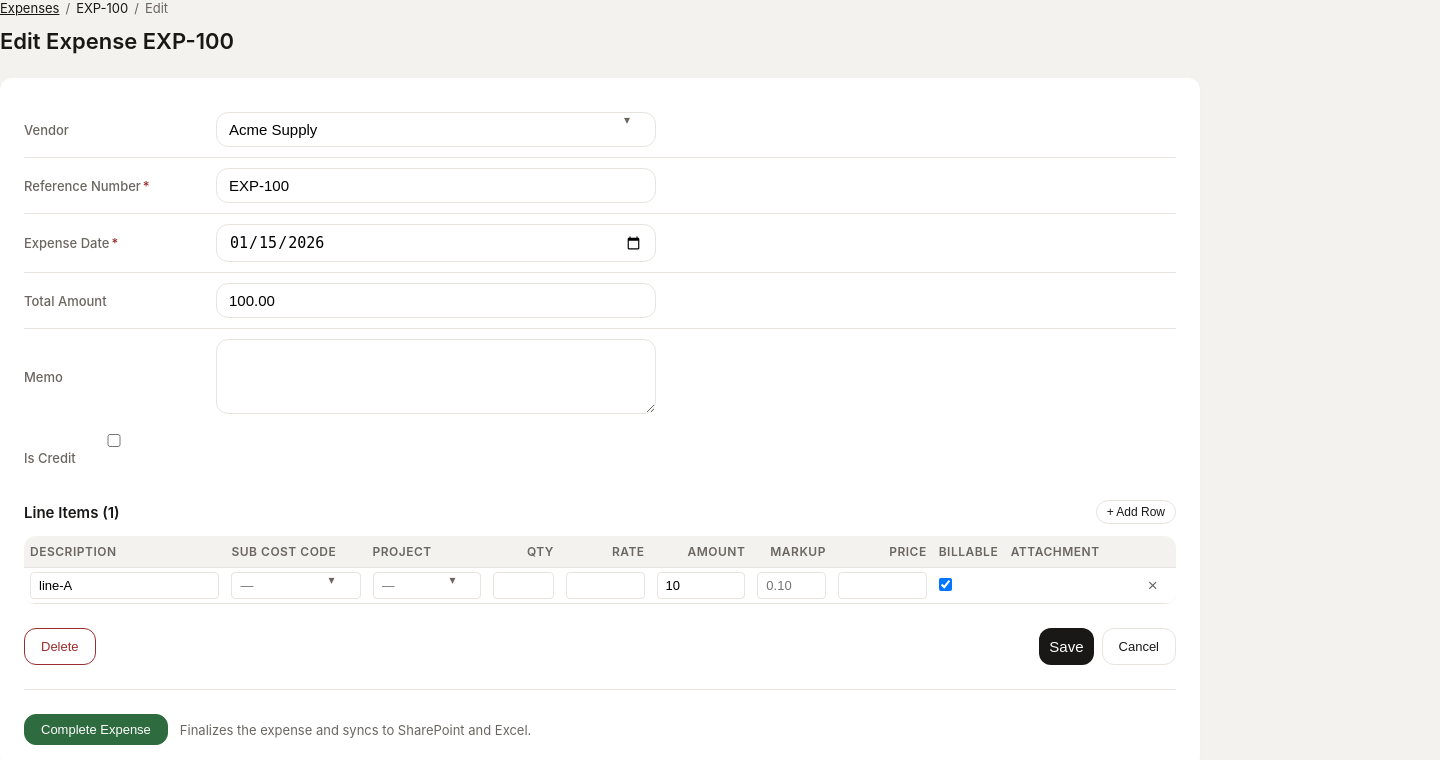
Test: ExpenseEdit receipt re-homing on line delete (U-171 / U-476) › aborts the save and issues NO delete when no surviving line exists
Click the button titled "Remove": [1153, 586] box [1142,575,1164,596]
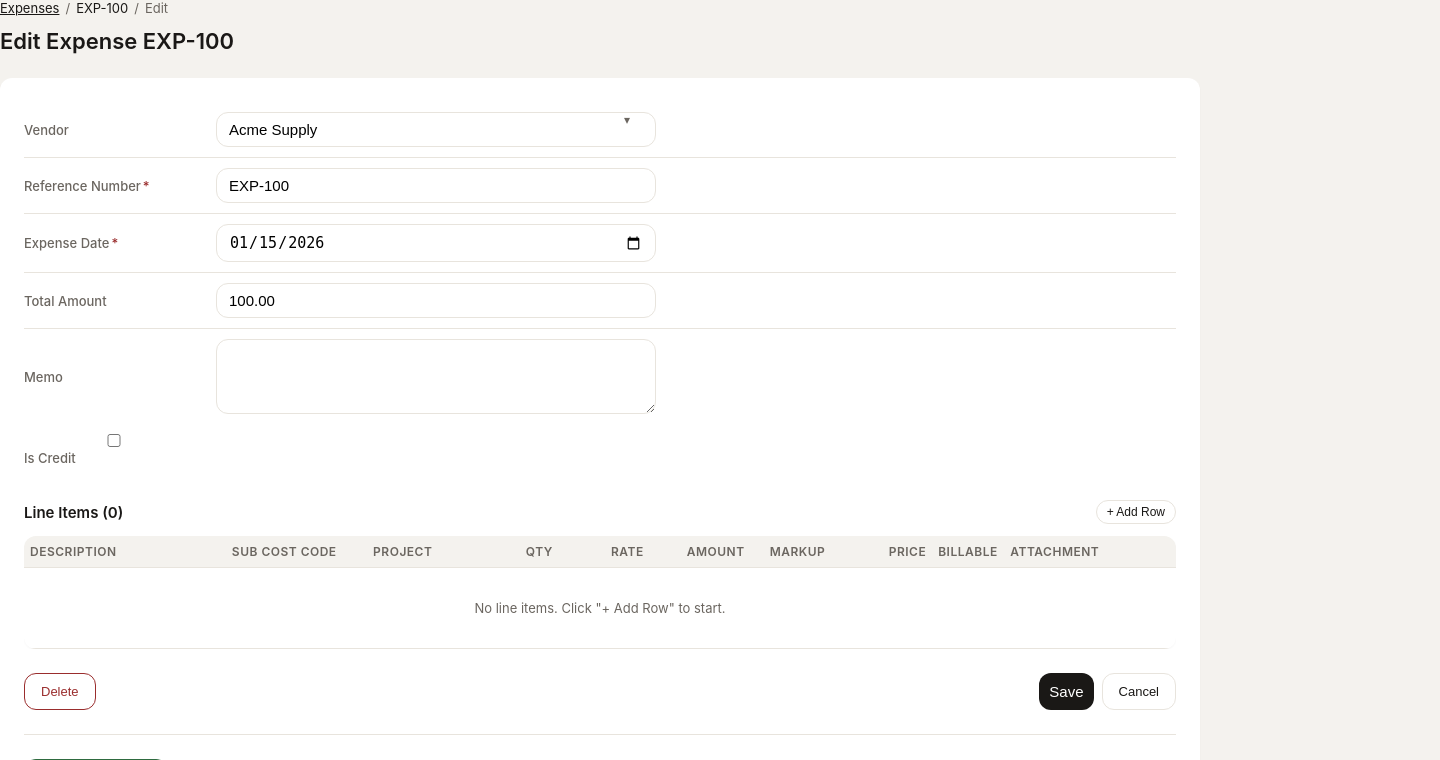
Click the button "Save": [1066, 692] box [1039,673,1094,710]
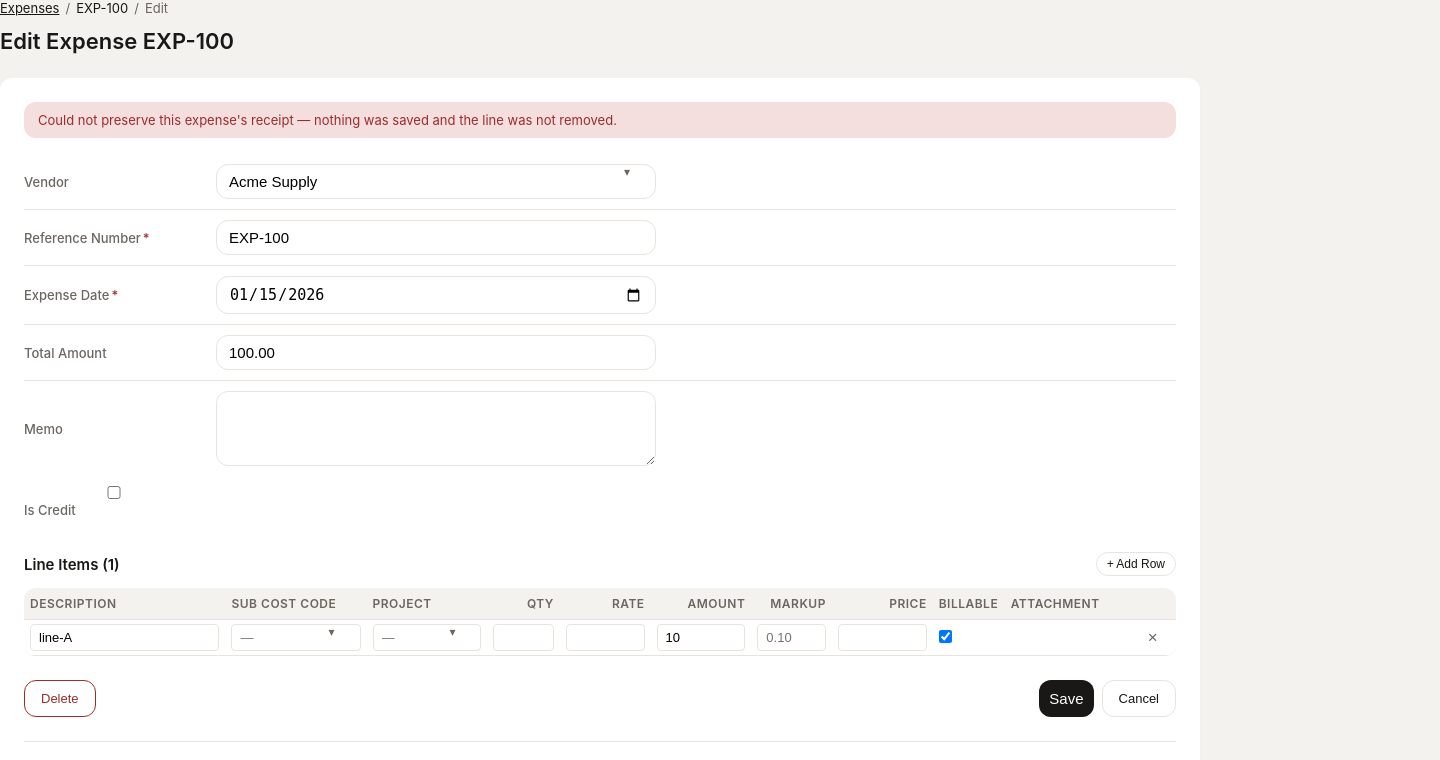
Check: the text "Could not preserve this expense's receipt — nothing was saved and the line was not removed." is shown, box [38,112,617,128]
